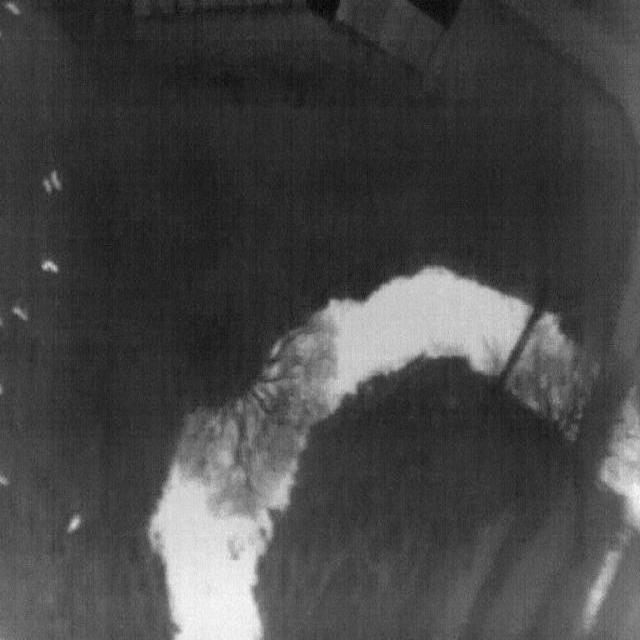deer: (67, 514, 82, 534), (12, 306, 29, 322), (5, 0, 22, 16), (41, 260, 60, 274), (50, 170, 63, 190), (42, 178, 53, 194), (0, 475, 10, 486), (0, 382, 3, 394)
